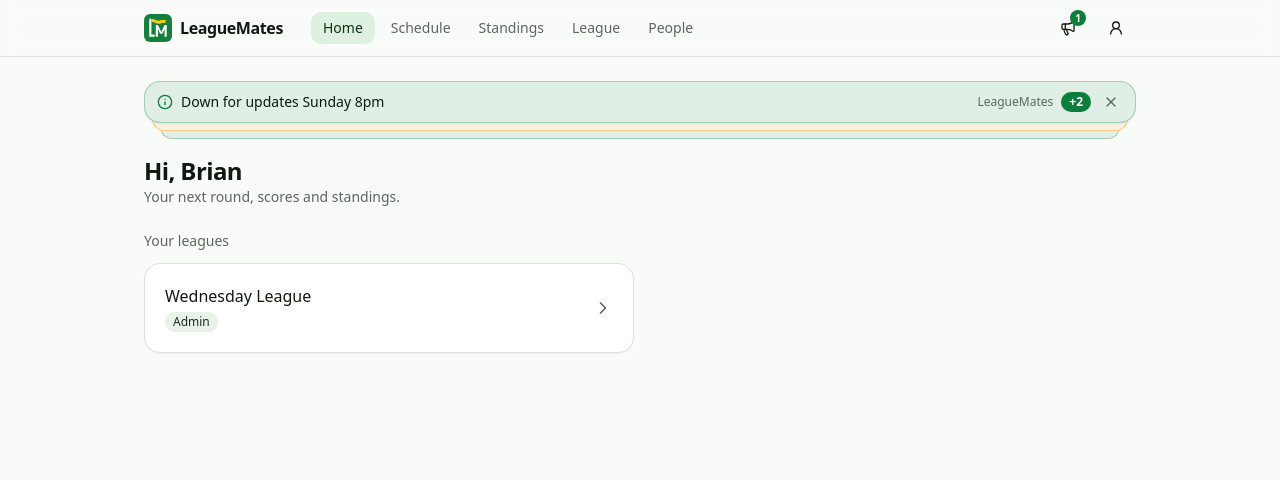
Test: notice banners › stack by urgency, one line each; routine notices stay out
Check: the text "Down for updates Sunday 8pm" is shown, box [181, 92, 384, 112]
Check: the text "Bring $20 for the pot" is not shown
Click the button named "Show all 3 notices".
click(1076, 102)  # box [1061, 92, 1091, 112]
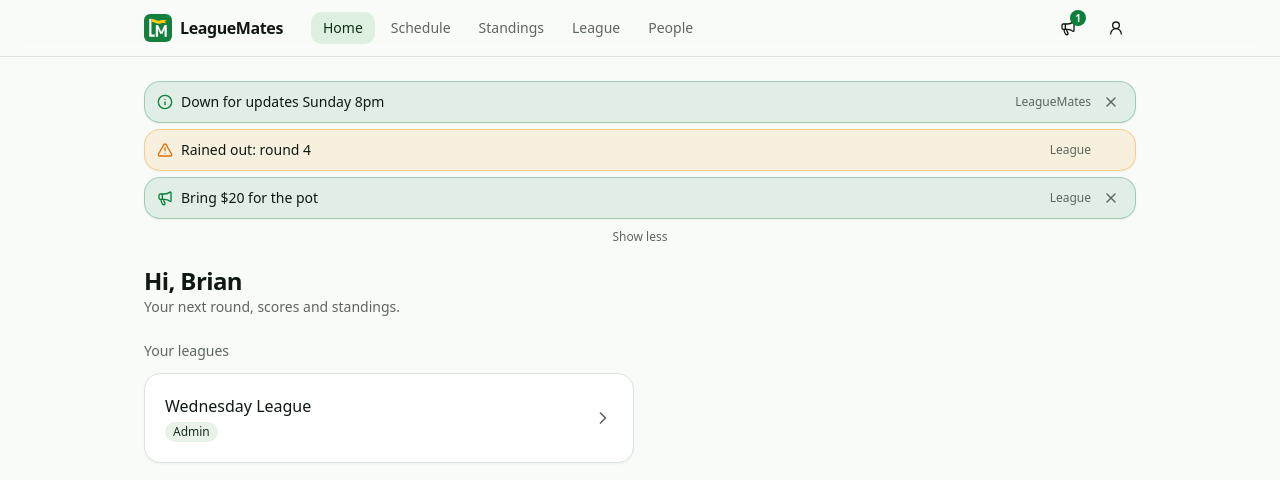
Check: the buttons read "Down for updates Sunday 8pmLeagueMates", "Rained out: round 4League", "Bring $20 for the potLeague", in this order, box [157, 92, 1091, 112]; [157, 140, 1091, 160]; [157, 188, 1091, 208]
Check: the message shows "Rained out: round 4", box [157, 140, 1091, 160]
